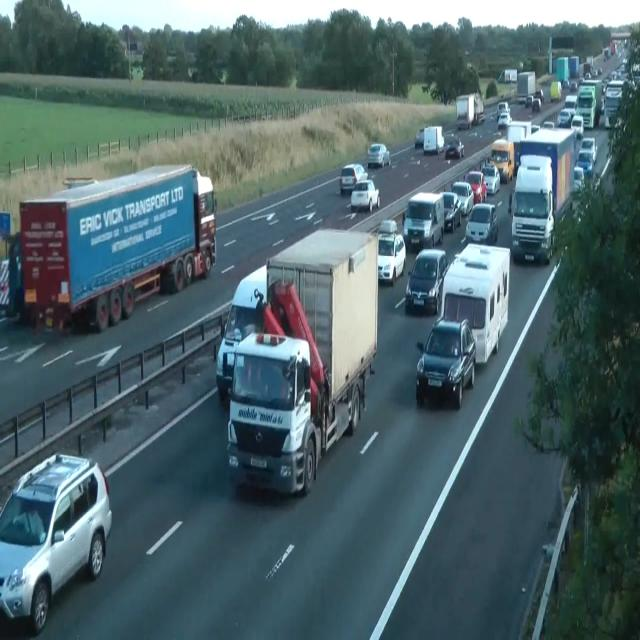bus: (405, 249, 447, 315), (377, 232, 406, 285), (350, 178, 380, 212), (338, 162, 368, 194), (450, 180, 474, 216), (441, 191, 462, 232), (464, 170, 487, 202), (367, 142, 391, 168), (574, 148, 594, 178), (481, 163, 500, 194), (580, 137, 598, 163), (444, 140, 464, 159), (378, 218, 398, 236), (570, 114, 584, 138), (573, 165, 585, 192), (496, 101, 510, 120), (557, 109, 571, 127), (564, 94, 577, 113), (498, 112, 512, 129), (414, 128, 424, 148), (534, 89, 544, 104), (531, 98, 541, 112), (530, 123, 540, 134), (542, 120, 554, 129)
car: (226, 330, 318, 497)
jeep: (0, 451, 112, 633), (215, 262, 267, 399), (415, 316, 477, 408), (402, 191, 444, 248), (464, 202, 498, 244)
minibus: (226, 227, 378, 497), (15, 163, 217, 334), (508, 125, 578, 263), (436, 242, 511, 364), (574, 80, 603, 128), (455, 90, 485, 130), (488, 139, 514, 184), (604, 80, 626, 129), (423, 125, 444, 155), (517, 71, 535, 103), (556, 57, 570, 88), (497, 68, 517, 82), (550, 80, 562, 101), (569, 55, 579, 77)
